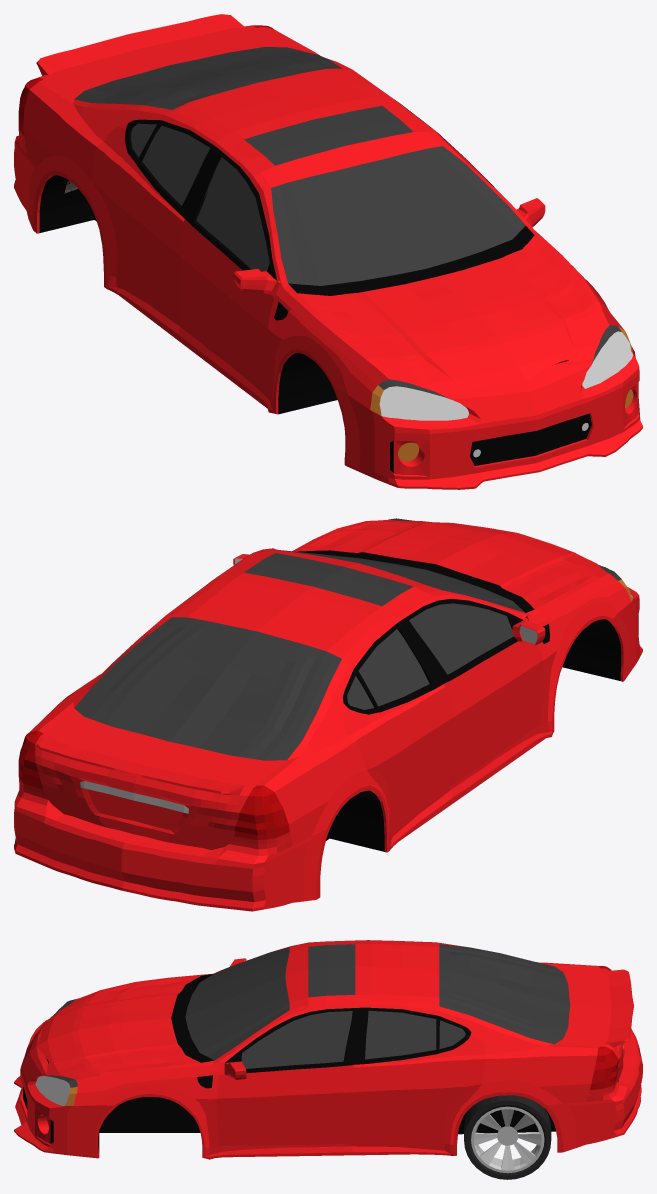
The model's file is Sedan.fbx.
3 views of the same model, one above another, from view 1: azimuth 30°, elevation 25°; view 2: azimuth 150°, elevation 25°; view 3: azimuth 270°, elevation 25° (orthographic). The views are drawn at different scales.
Visible parts, largest first — view 1: Body, Hood, Door.PR, Door.PF, Trunk, Sunroof, Window.Door.DF.001, Window.Door.DR.001; view 2: Body, Trunk, Door.PR, Hood, Door.PF, Window.Door.DF.001, Sunroof, Window.Door.DR.001; view 3: Body, Door.DR, Door.DF, Hood, Trunk, Wheel, Window.Door.DF, Window.Door.DR, Sunroof.
Part boxes in pixels (x1,y1,x2,y2): Body: (14, 25, 642, 489); Hood: (297, 235, 605, 395); Door.PR: (91, 119, 218, 323); Door.PF: (180, 149, 280, 390); Trunk: (36, 14, 286, 98); Sunroof: (244, 106, 413, 165); Window.Door.DF.001: (196, 157, 269, 271); Window.Door.DR.001: (142, 126, 209, 205); Body: (14, 518, 642, 911); Trunk: (35, 708, 286, 849); Door.PR: (342, 621, 455, 833); Hood: (297, 520, 605, 609); Door.PF: (401, 598, 545, 787); Window.Door.DF.001: (409, 603, 513, 674); Sunroof: (244, 553, 413, 606); Window.Door.DR.001: (358, 629, 429, 706); Body: (14, 940, 642, 1159); Door.DR: (348, 1007, 485, 1144); Door.DF: (216, 1007, 360, 1146); Hood: (36, 976, 200, 1078); Trunk: (554, 966, 633, 1082); Wheel: (464, 1095, 551, 1179); Window.Door.DF: (241, 1011, 352, 1068); Window.Door.DR: (365, 1010, 436, 1059); Sunroof: (308, 944, 355, 997).
Bounding box in the file's own units: 417 × 283 × 993.
